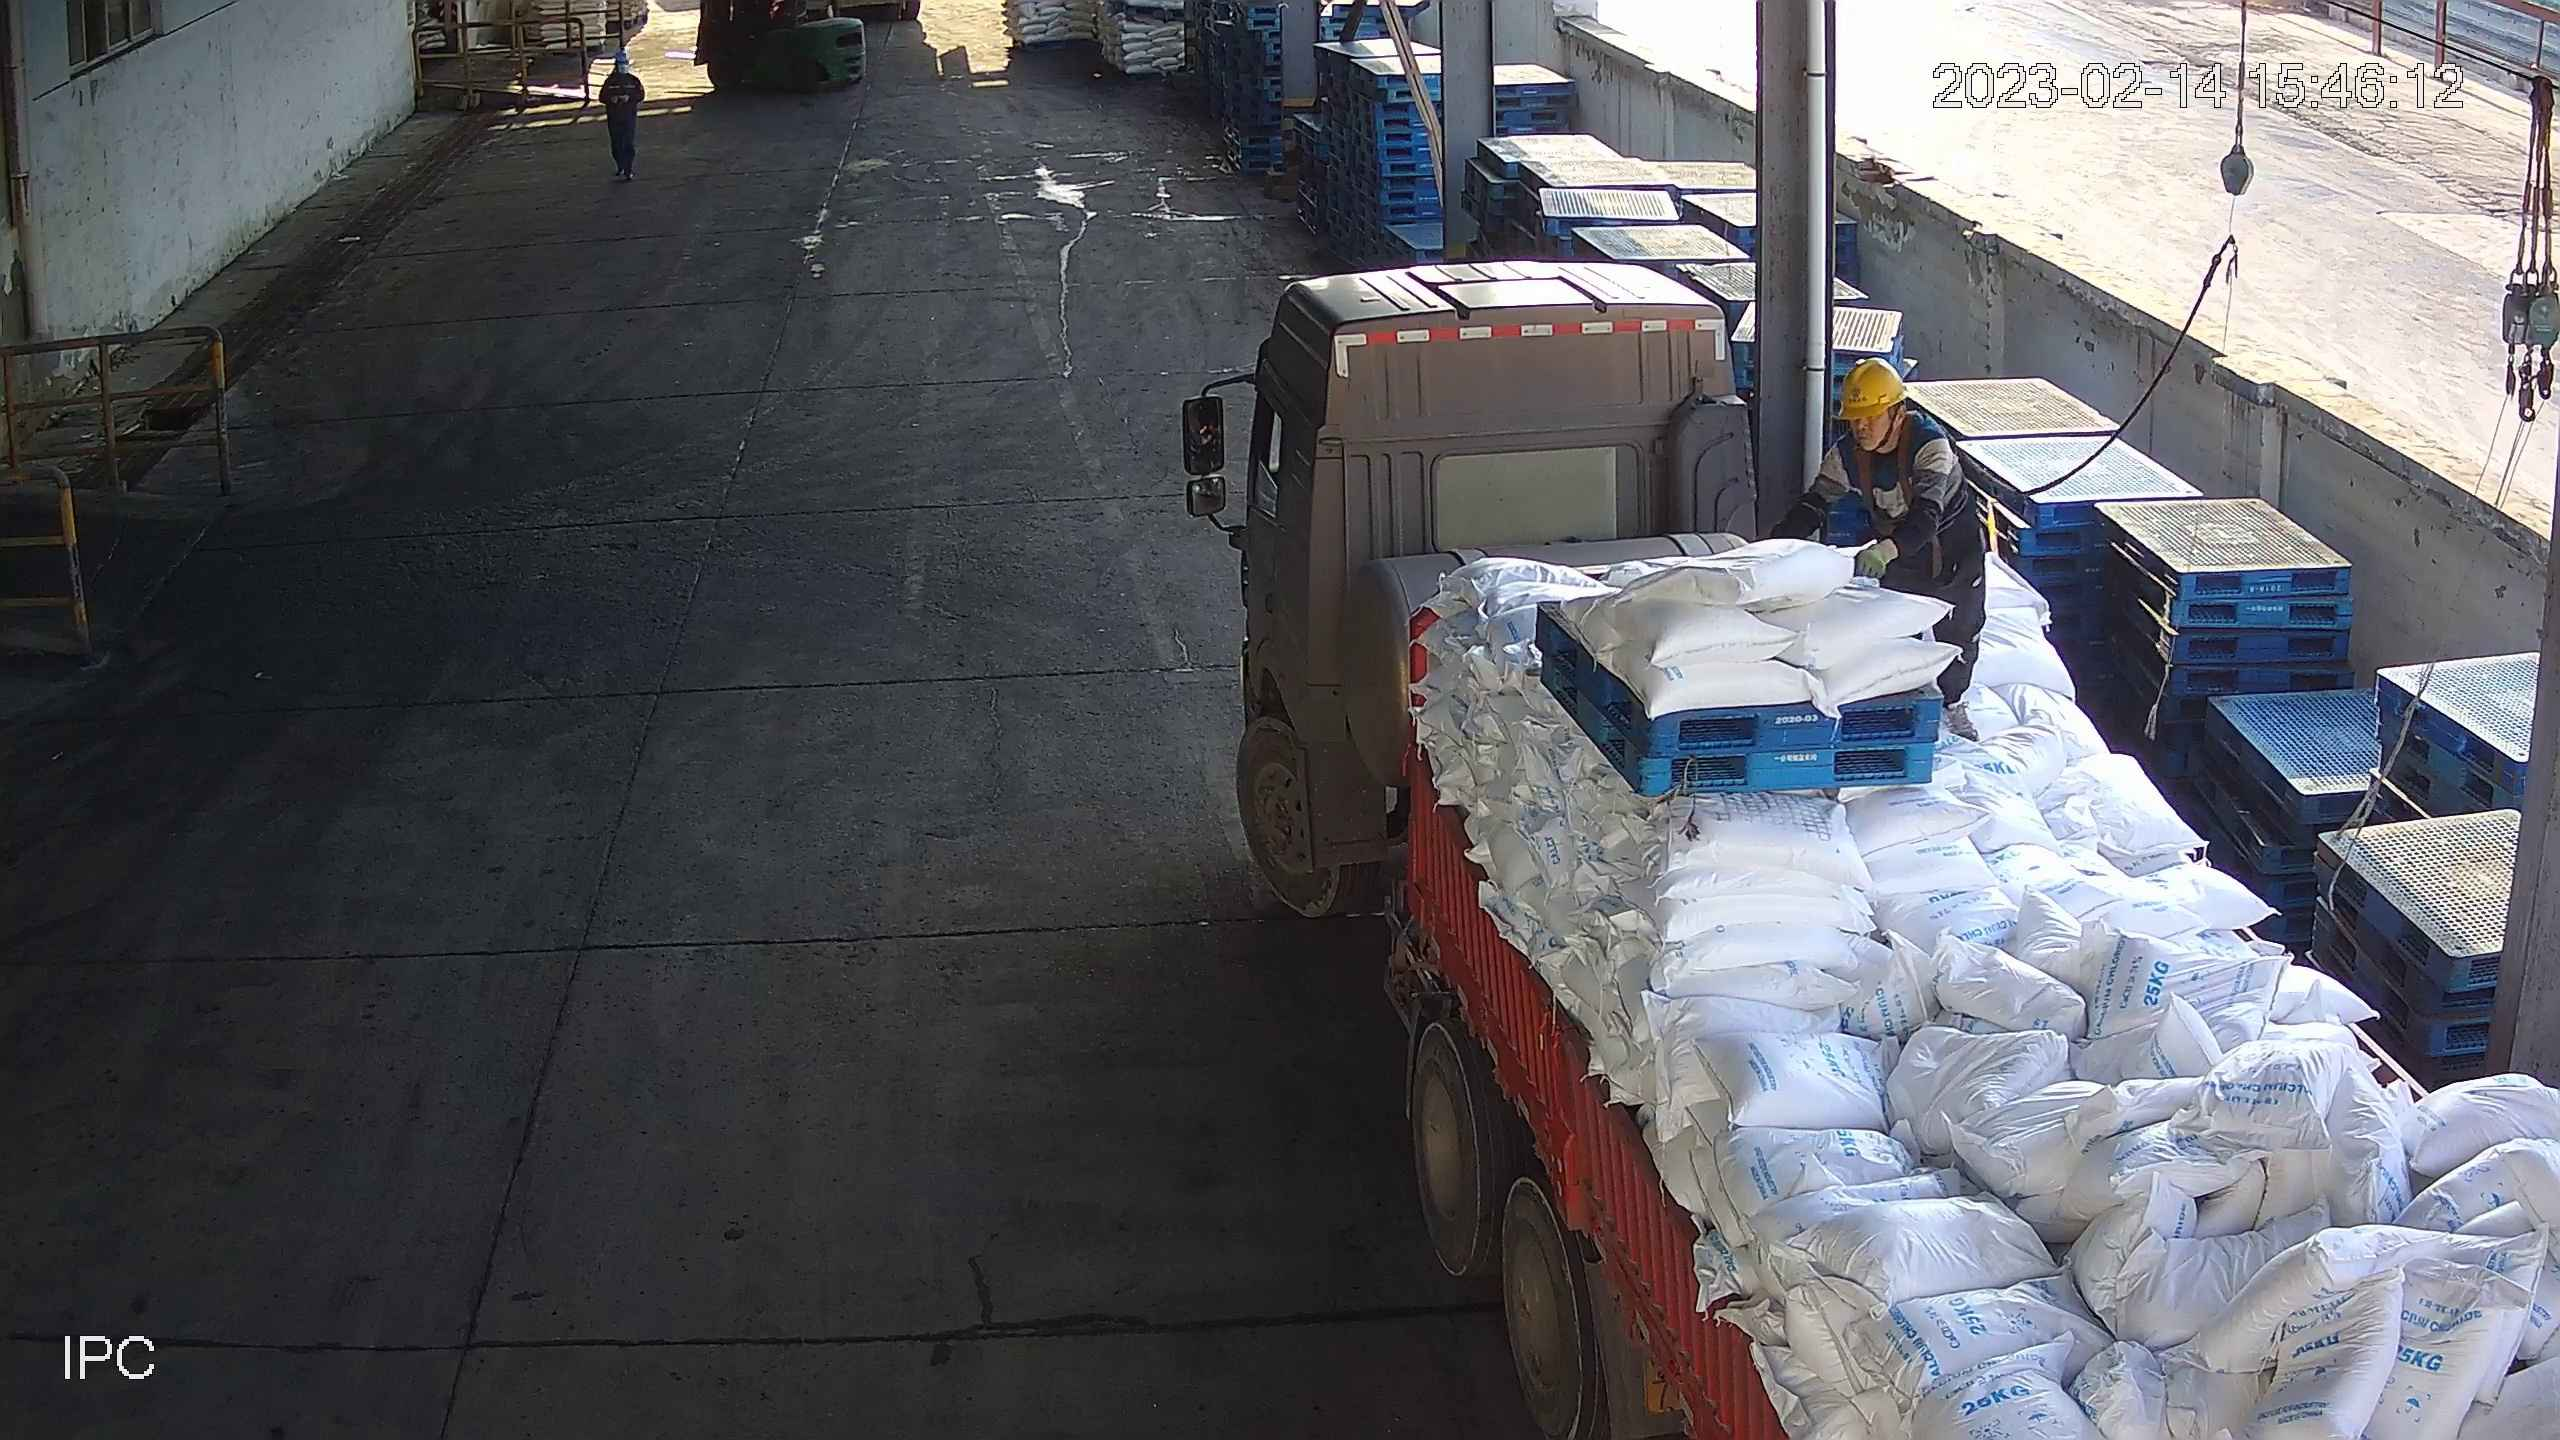belt: (1846, 453, 1920, 522)
head: (1830, 359, 1940, 459), (597, 50, 641, 83)
helmet: (1837, 357, 1906, 415), (609, 50, 635, 64)
people: (1763, 358, 1984, 746), (600, 51, 649, 181)
truck: (1184, 260, 2560, 1440)
